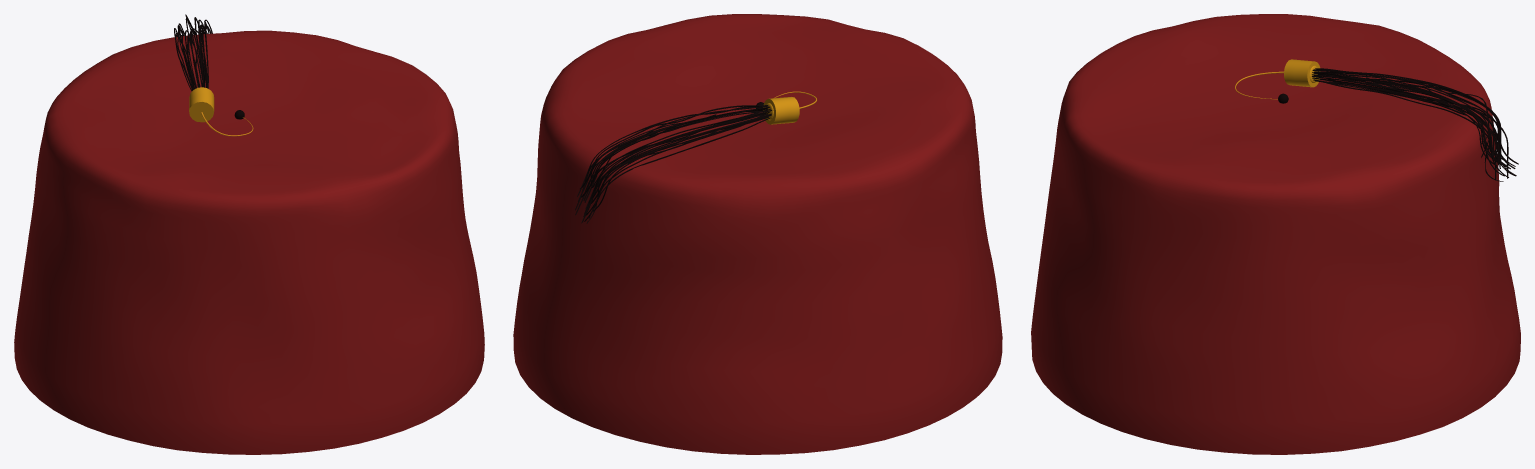
Rendered from fez.glb.
3 views of the same model, side by side, from view 1: azimuth 30°, elevation 25°; view 2: azimuth 150°, elevation 25°; view 3: azimuth 270°, elevation 25° (orthographic). The views are drawn at different scales.
Visible parts, largest first — view 1: Remesh_1_remesh, Sweep_remesh_remesh_remesh, Cylinder_2; view 2: Remesh_1_remesh, Sweep_remesh_remesh_remesh, Cylinder_2; view 3: Remesh_1_remesh, Sweep_remesh_remesh_remesh, Cylinder_2.
Part boxes in pixels (bbox=[...]): Remesh_1_remesh: bbox=[14, 30, 484, 454]; Sweep_remesh_remesh_remesh: bbox=[174, 14, 212, 91]; Cylinder_2: bbox=[189, 87, 214, 122]; Remesh_1_remesh: bbox=[513, 14, 1002, 454]; Sweep_remesh_remesh_remesh: bbox=[575, 105, 771, 223]; Cylinder_2: bbox=[763, 97, 799, 124]; Remesh_1_remesh: bbox=[1031, 14, 1520, 454]; Sweep_remesh_remesh_remesh: bbox=[1312, 68, 1518, 181]; Cylinder_2: bbox=[1284, 59, 1320, 87].
Bounding box in the file's own units: 0.2299 × 0.1448 × 0.23.
